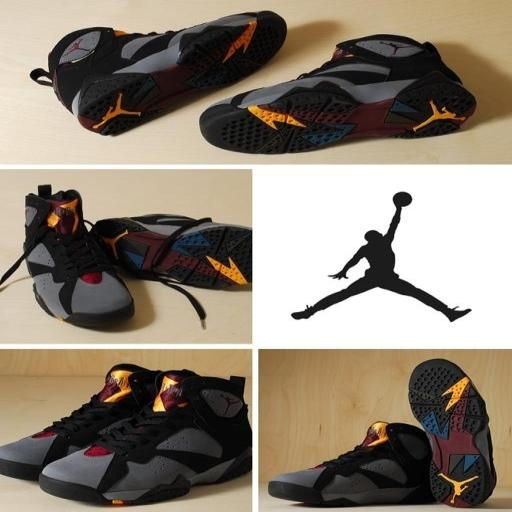shoe: (200, 34, 476, 154), (31, 11, 287, 135), (39, 370, 252, 504), (0, 186, 134, 328), (0, 364, 159, 480), (268, 422, 434, 506), (409, 359, 496, 507), (93, 214, 252, 289)
